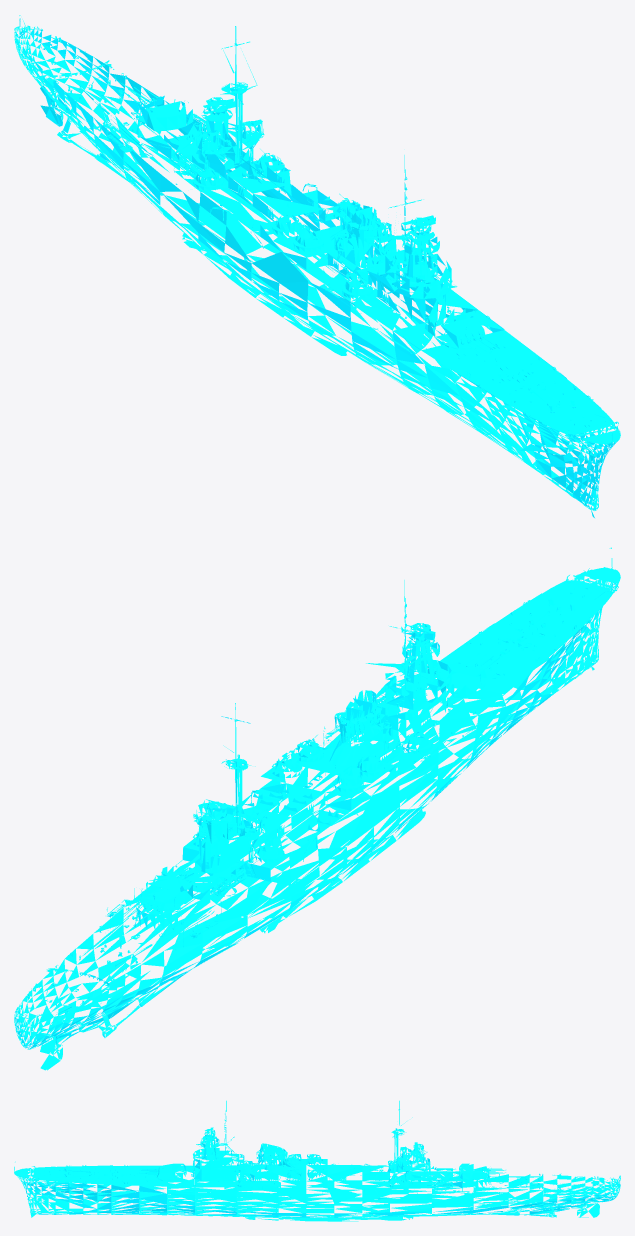
Rendered from PISC517.glb.
3 views of the same model, one above another, from view 1: azimuth 30°, elevation 25°; view 2: azimuth 150°, elevation 25°; view 3: azimuth 270°, elevation 25° (orthographic). The views are drawn at different scales.
Parts seen in each view (by area): view 1: hull_mid, hull_bow, hull_stern, main_battery, secondary_battery, hull_body; view 2: hull_mid, hull_bow, hull_stern, main_battery, secondary_battery, hull_body; view 3: hull_mid, hull_bow, hull_stern, main_battery, secondary_battery, hull_body, torpedo.
Part boxes in pixels (x1,y1,x2,y2): hull_mid: (76, 26, 504, 414); hull_bow: (193, 119, 620, 517); hull_stern: (14, 15, 157, 156); main_battery: (121, 85, 499, 353); secondary_battery: (193, 149, 414, 294); hull_body: (203, 97, 435, 235); hull_mid: (76, 580, 504, 1017); hull_bow: (193, 547, 620, 837); hull_stern: (14, 918, 175, 1070); main_battery: (121, 652, 499, 920); secondary_battery: (196, 726, 432, 857); hull_body: (202, 623, 435, 818); hull_mid: (167, 1100, 530, 1221); hull_bow: (14, 1146, 412, 1217); hull_stern: (485, 1173, 620, 1217); main_battery: (139, 1163, 505, 1179); secondary_battery: (236, 1154, 404, 1184); hull_body: (204, 1127, 423, 1152); torpedo: (414, 1173, 452, 1188).
Bounding box in the file's own units: 1.25 × 2.68 × 12.53.
